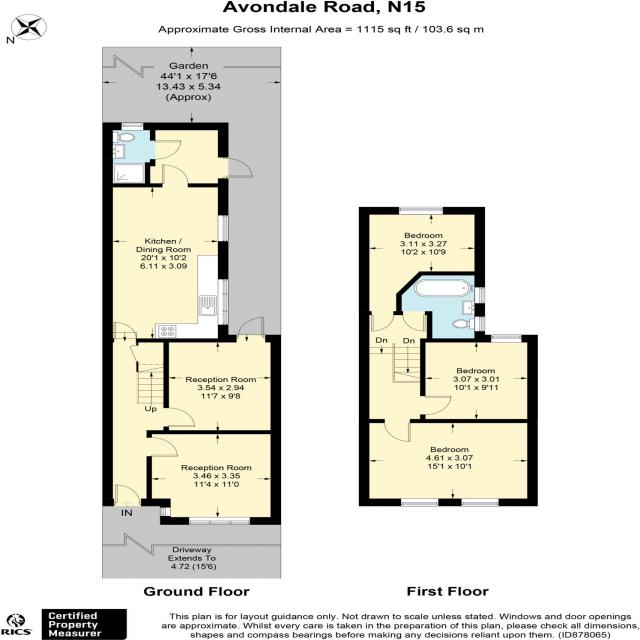DOOR: (218, 157, 253, 179), (149, 139, 182, 160), (161, 164, 189, 188), (146, 436, 178, 457), (383, 419, 411, 442), (164, 407, 196, 427), (420, 395, 452, 415), (236, 317, 265, 339), (113, 484, 142, 506), (112, 321, 138, 342), (369, 311, 395, 332), (401, 311, 426, 331)
ROOM: (103, 164, 229, 342), (358, 207, 486, 333), (359, 419, 538, 506), (163, 317, 281, 434), (146, 430, 282, 525), (420, 334, 538, 423)
WINDOW: (218, 279, 229, 325), (187, 517, 250, 525), (398, 206, 445, 215), (399, 498, 439, 507), (217, 214, 229, 242), (460, 498, 500, 506), (490, 334, 522, 342), (474, 286, 486, 304), (121, 122, 144, 131), (475, 316, 485, 332), (160, 506, 171, 517)
